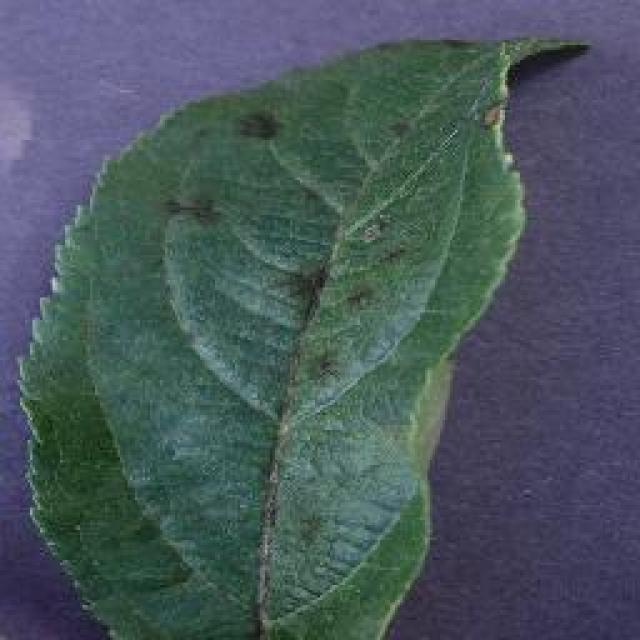apple scab disease: (12, 30, 590, 638)
